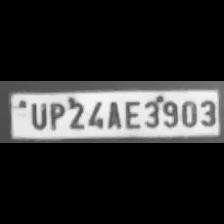0: (178, 98, 198, 127)
2: (65, 97, 85, 130)
3: (142, 97, 160, 129), (198, 97, 216, 127)
4: (86, 98, 104, 130)
9: (161, 98, 179, 128)
A: (104, 98, 120, 130)
E: (123, 98, 141, 130)
P: (46, 100, 64, 130)
U: (28, 100, 48, 130)
